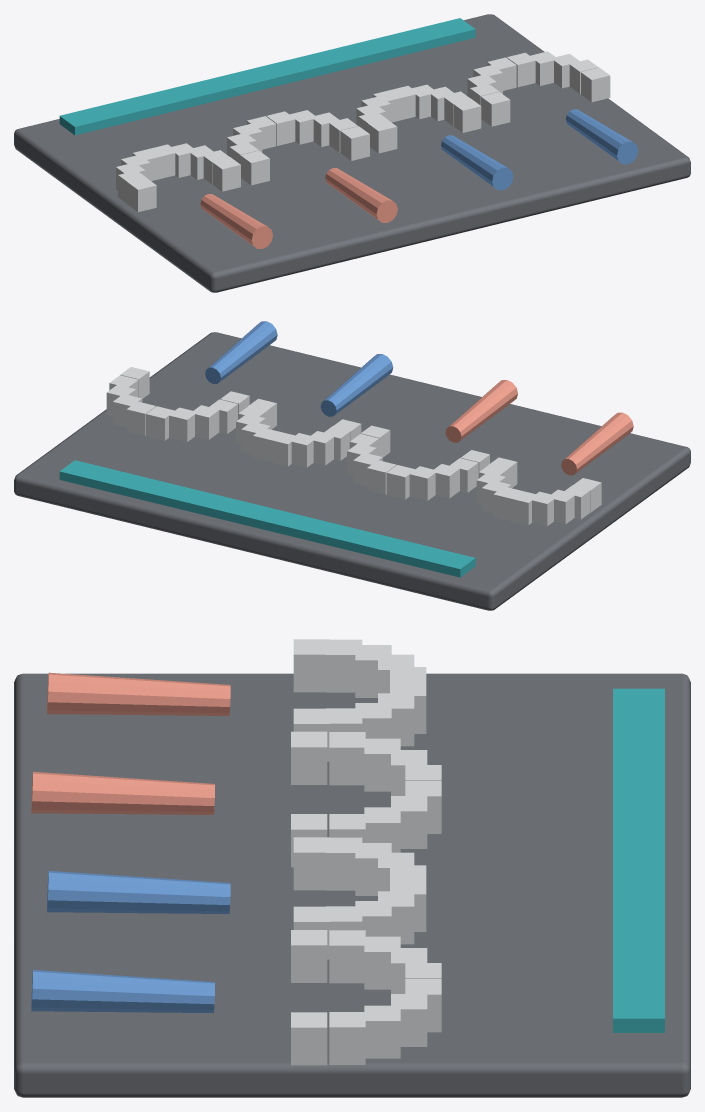
File: impression_trays.glb
3 views of the same model, one above another, from view 1: azimuth 30°, elevation 25°; view 2: azimuth 150°, elevation 25°; view 3: azimuth 270°, elevation 25° (orthographic). The views are drawn at different scales.
Parts seen in each view (by area): view 1: impression-tray-set; view 2: impression-tray-set; view 3: impression-tray-set.
Part boxes in pixels (x1,y1,x2,y2): impression-tray-set: [14, 14, 690, 292]; impression-tray-set: [14, 321, 690, 610]; impression-tray-set: [14, 639, 690, 1097].
Bounding box in the file's own units: 0.36 × 0.034 × 0.26.
